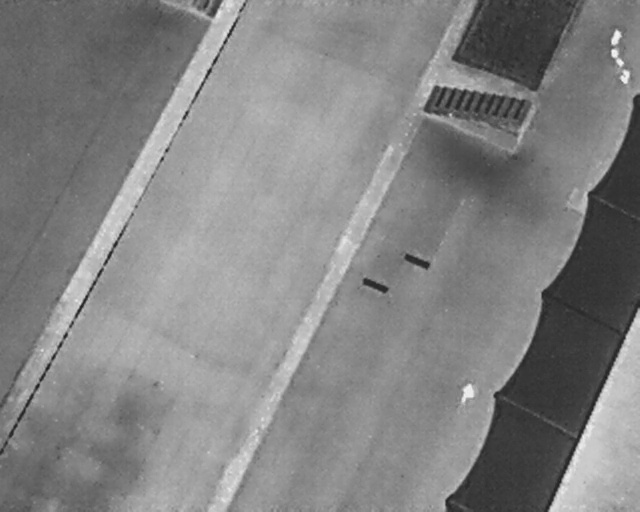Person: (457, 377, 481, 408)
